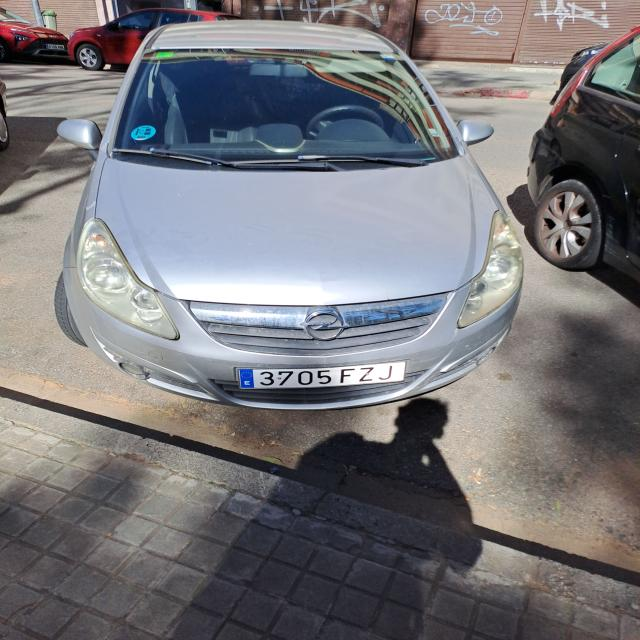license_plate-34Td: (237, 361, 406, 389)
